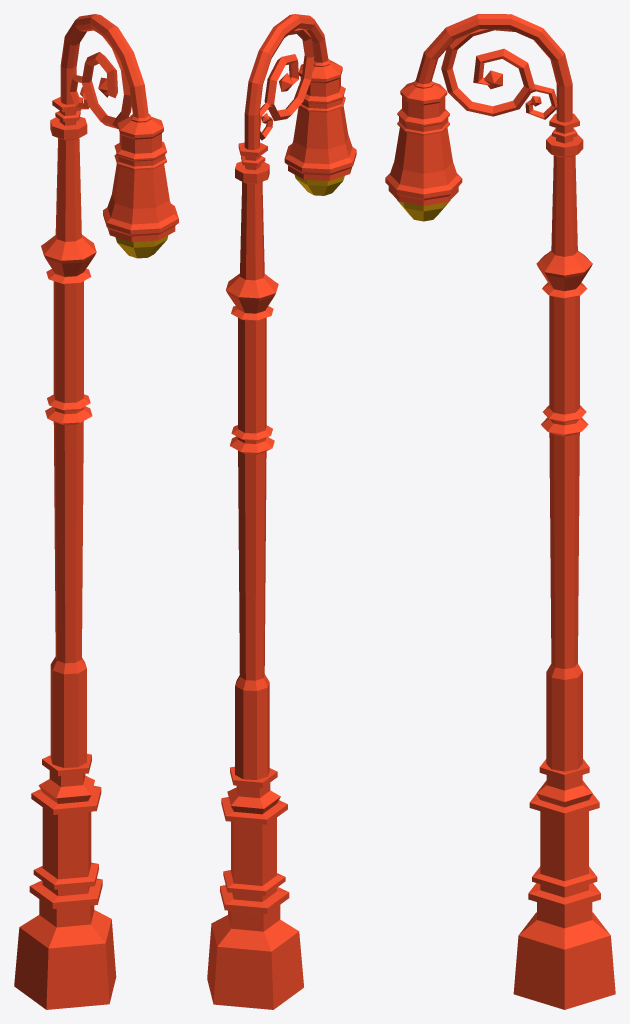
The model's file is SM_Lamp_Street_A_City.fbx.
3 renders of one model, left to right at view 1: azimuth 30°, elevation 25°; view 2: azimuth 150°, elevation 25°; view 3: azimuth 270°, elevation 25°, orthographic. The views are drawn at different scales.
Visible parts, largest first — view 1: SM_Lamp_Street_A_City; view 2: SM_Lamp_Street_A_City; view 3: SM_Lamp_Street_A_City.
Boxes of the visible parts, x1=… form: SM_Lamp_Street_A_City: x1=14, y1=14, x2=178, y2=1009; SM_Lamp_Street_A_City: x1=207, y1=14, x2=356, y2=1009; SM_Lamp_Street_A_City: x1=385, y1=14, x2=615, y2=1009.
Size of the model in its own units: 0.4905 by 5.42 by 1.16.
